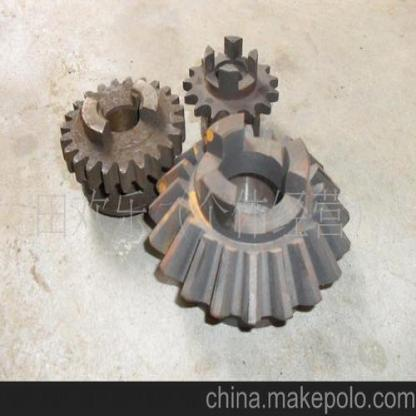FOD: (145, 113, 353, 329), (60, 74, 186, 220), (184, 34, 284, 130)
